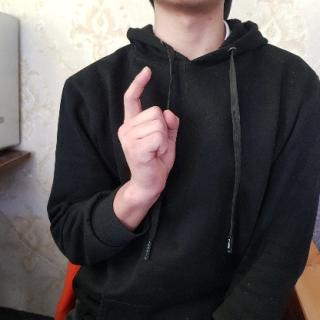RAA: (114, 62, 190, 208)
